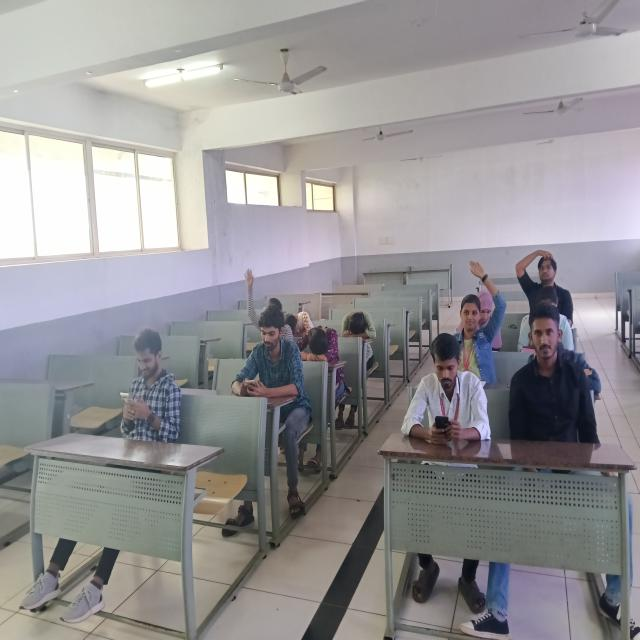Hand Rising: (448, 255, 506, 368), (512, 242, 568, 321)
Sleeping: (291, 324, 346, 368), (339, 307, 379, 348), (280, 304, 315, 340)
Using Phone: (396, 327, 497, 456), (111, 321, 187, 449), (231, 306, 301, 414)
